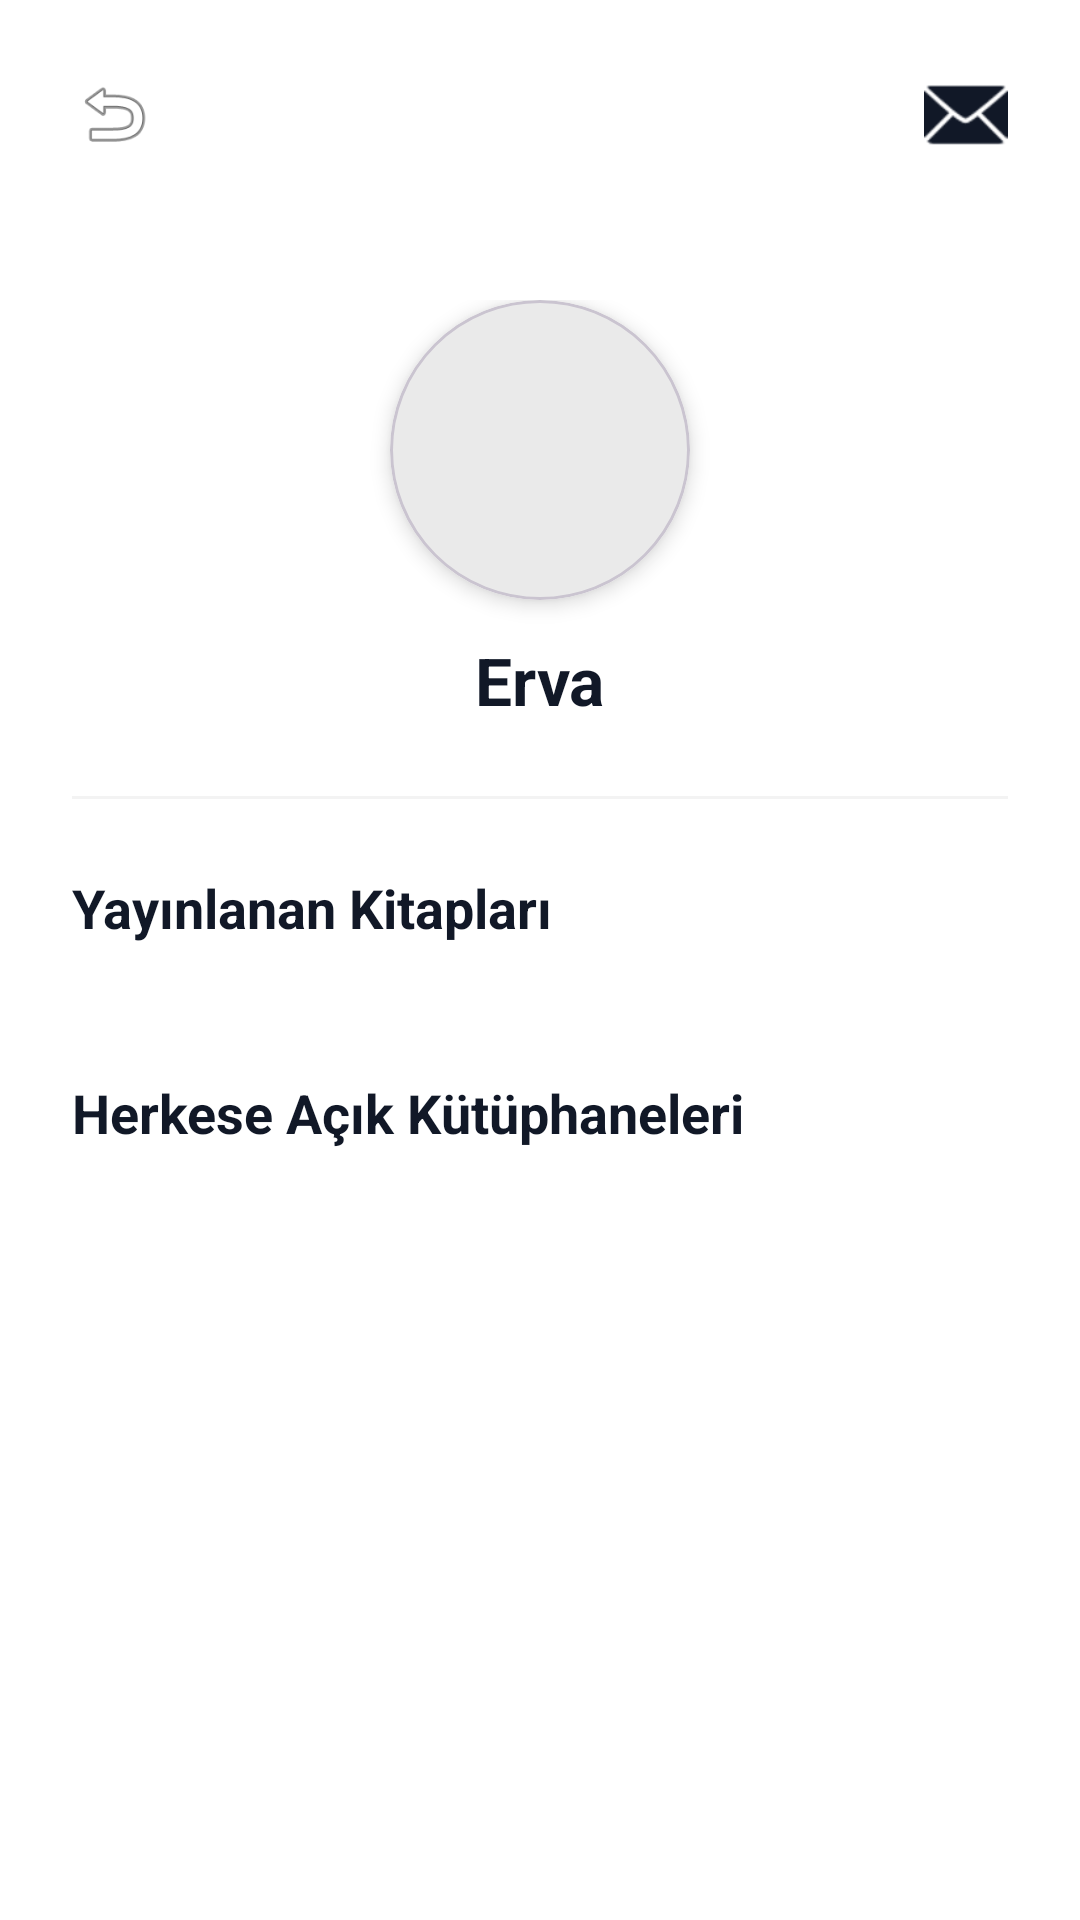

Where icons sit on this 1080px x 1920px app screen, as (x1, y1, x2, y2):
email: (924, 85, 1008, 145)
revert: (85, 87, 146, 142)
